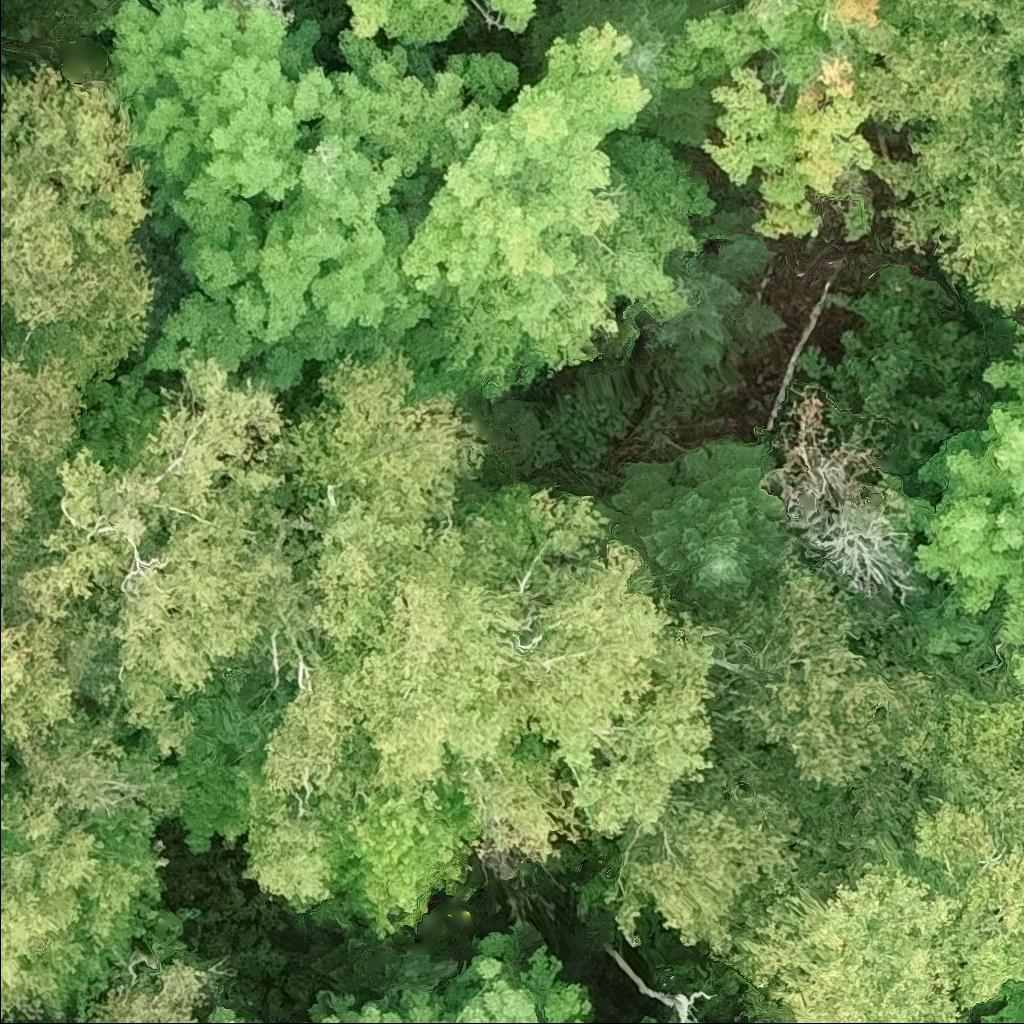crown: (234, 343, 535, 917), (101, 0, 524, 394), (12, 348, 312, 760), (400, 18, 718, 406), (451, 480, 752, 864), (711, 544, 929, 843), (0, 707, 203, 1023), (794, 262, 1015, 527), (651, 0, 887, 238), (599, 743, 851, 958), (0, 56, 159, 386), (0, 339, 114, 765), (722, 827, 969, 1023), (896, 654, 1023, 1009), (904, 316, 1023, 687), (599, 437, 792, 644), (759, 385, 933, 614), (876, 77, 1023, 320), (526, 0, 738, 154), (647, 179, 789, 388), (325, 749, 470, 938), (854, 0, 1023, 136), (442, 927, 594, 1023), (80, 955, 216, 1023), (336, 0, 473, 53), (289, 981, 460, 1023), (485, 0, 541, 32), (979, 984, 1023, 1023), (1009, 60, 1023, 174), (227, 0, 293, 20), (203, 1003, 263, 1023), (1008, 729, 1023, 774), (641, 1016, 662, 1023), (665, 1018, 678, 1023)
